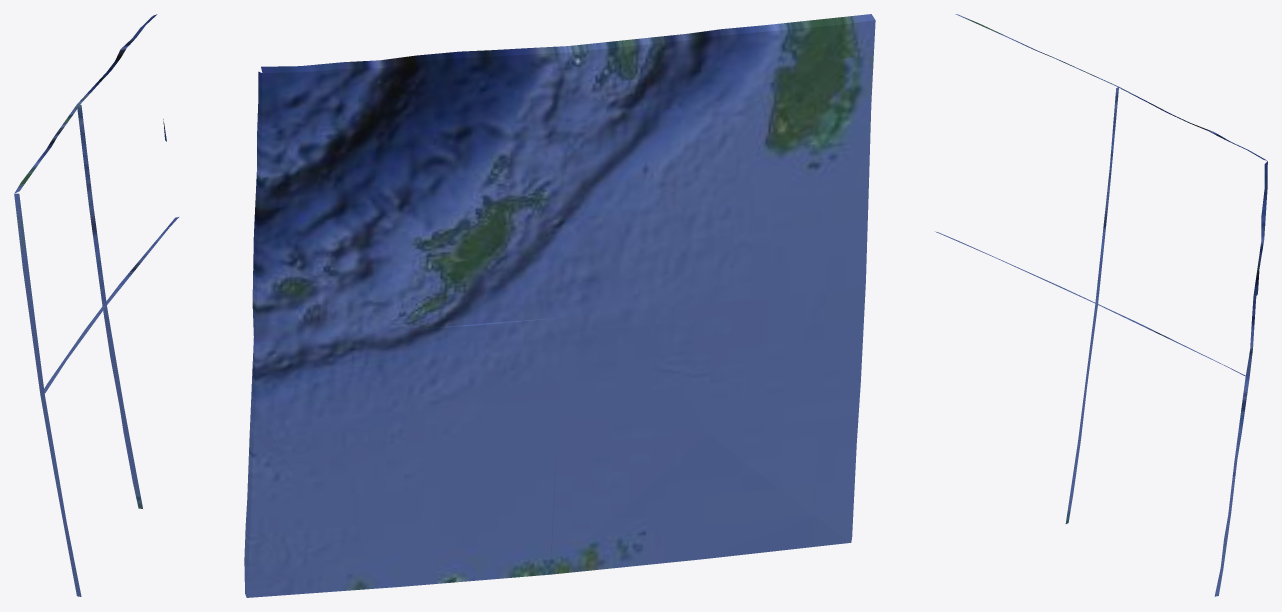
The picture shows the model from 3 angles, left to right: view 1: azimuth 30°, elevation 25°; view 2: azimuth 150°, elevation 25°; view 3: azimuth 270°, elevation 25°; orthographic projection. The views are drawn at different scales.
Bounding box in the file's own units: 528425 × 624521 × 488231.
Materials: 1 (1 with a texture image).
